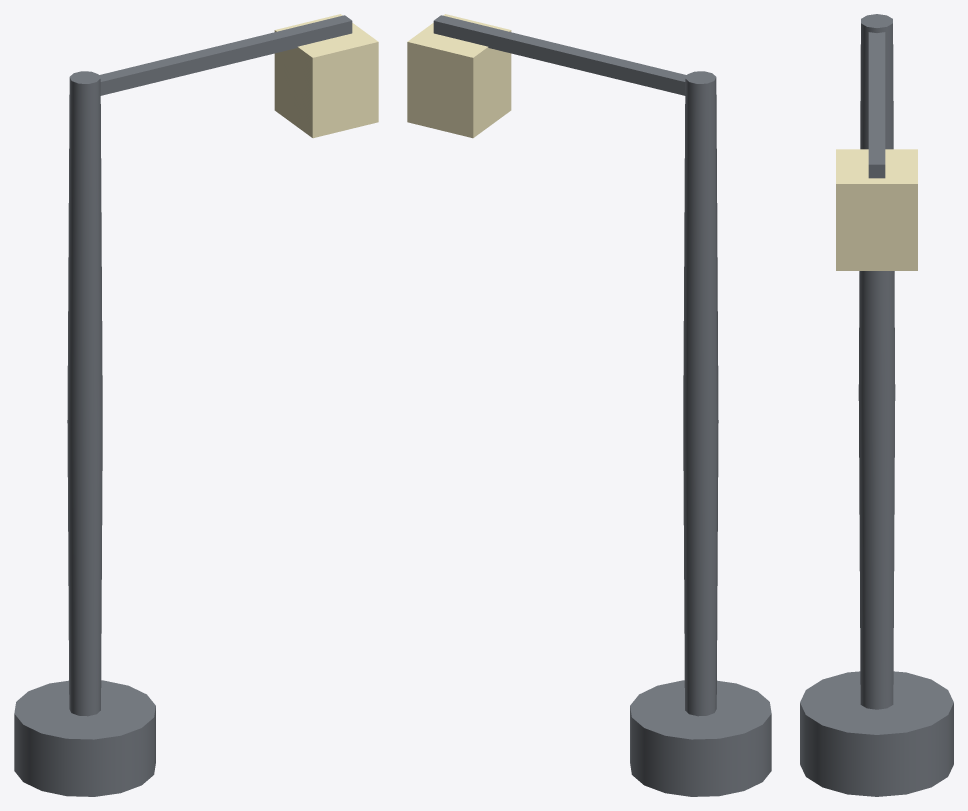
The model's file is lampa.glb.
3 views of the same model, side by side, from view 1: azimuth 30°, elevation 25°; view 2: azimuth 150°, elevation 25°; view 3: azimuth 270°, elevation 25° (orthographic). The views are drawn at different scales.
Parts seen in each view (by area): view 1: lampa, klosz; view 2: lampa, klosz; view 3: lampa, klosz.
Boxes of the visible parts, box(x1,y1,x2,y2) form: lampa: box(14, 15, 352, 796); klosz: box(274, 14, 378, 138); lampa: box(433, 15, 771, 796); klosz: box(407, 14, 511, 138); lampa: box(800, 14, 953, 796); klosz: box(836, 149, 917, 270).
Size of what is drawn, in the model's own units: 1.53 by 3 by 0.5632.
